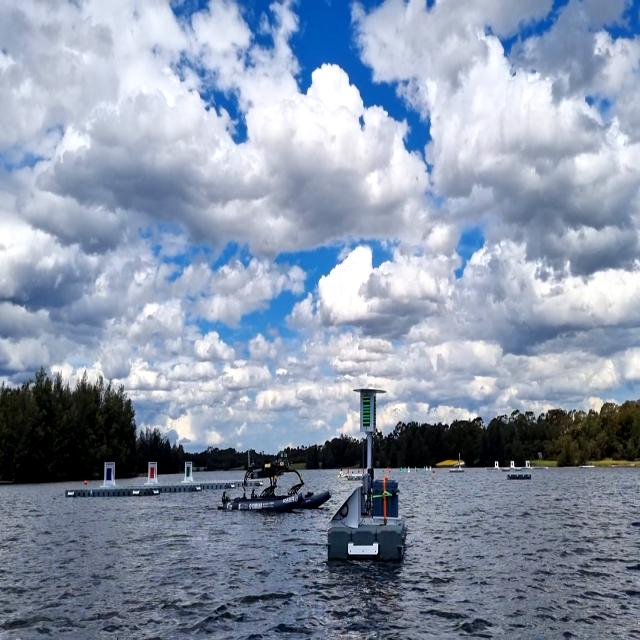led: (362, 392, 372, 430)
